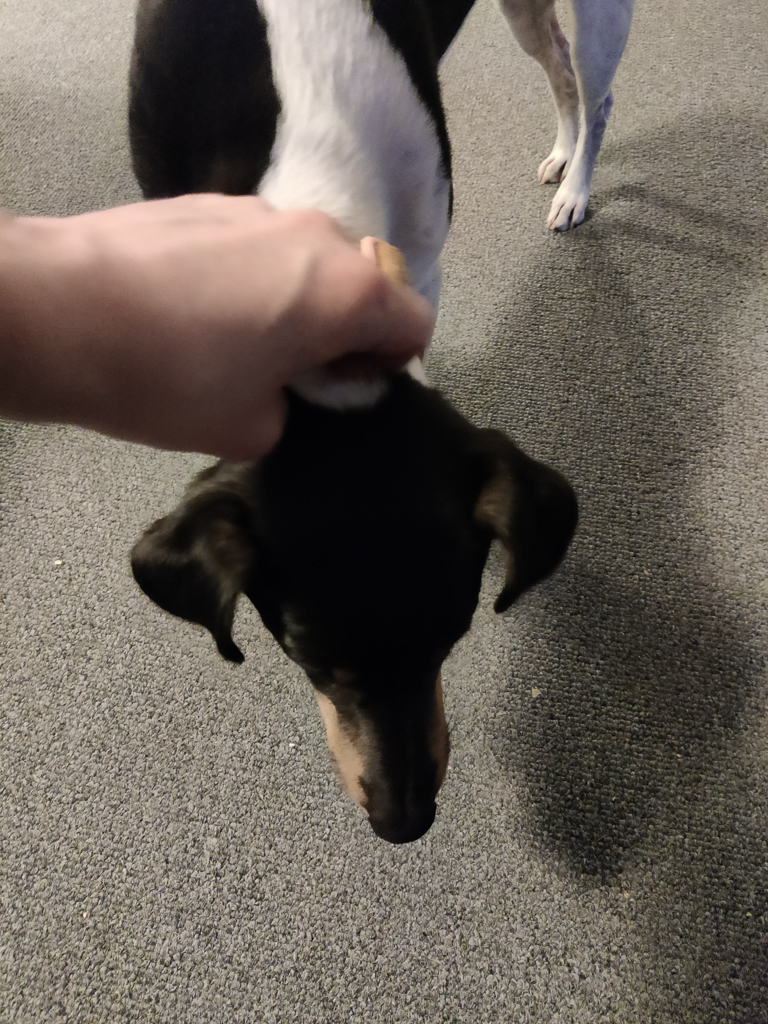Dog: (98, 0, 651, 865)
Humanoid: (0, 140, 453, 490)
